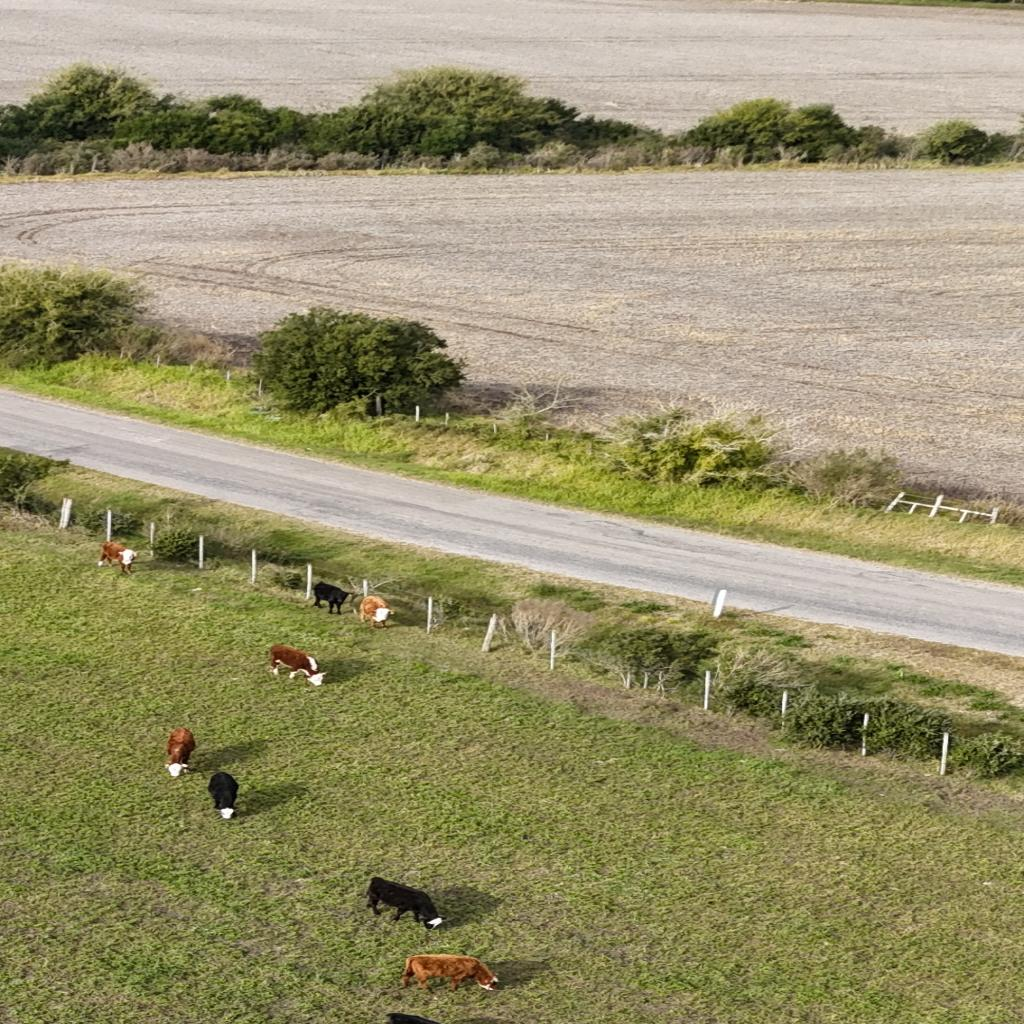cow: (365, 875, 447, 929), (401, 956, 500, 993), (207, 768, 243, 820), (165, 728, 197, 778), (270, 644, 318, 677), (311, 582, 355, 613), (97, 542, 137, 575), (358, 595, 392, 629)
